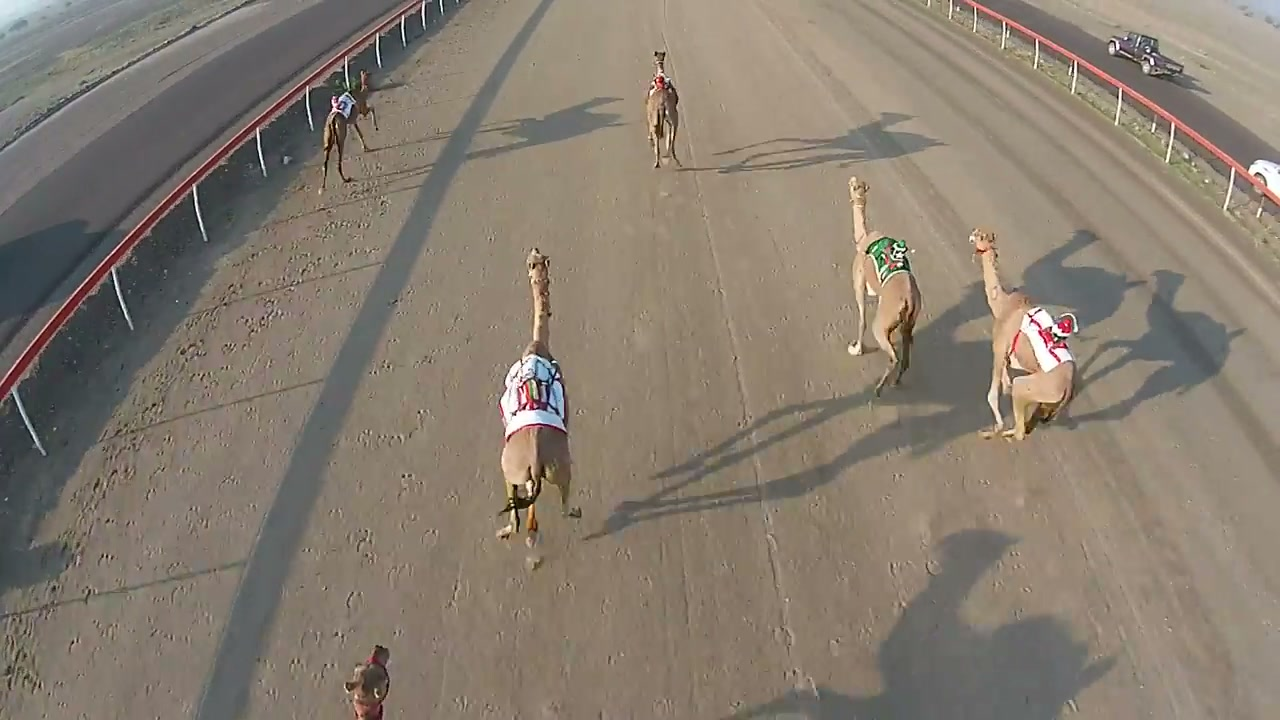animal_footprint: (33, 193, 357, 678)
